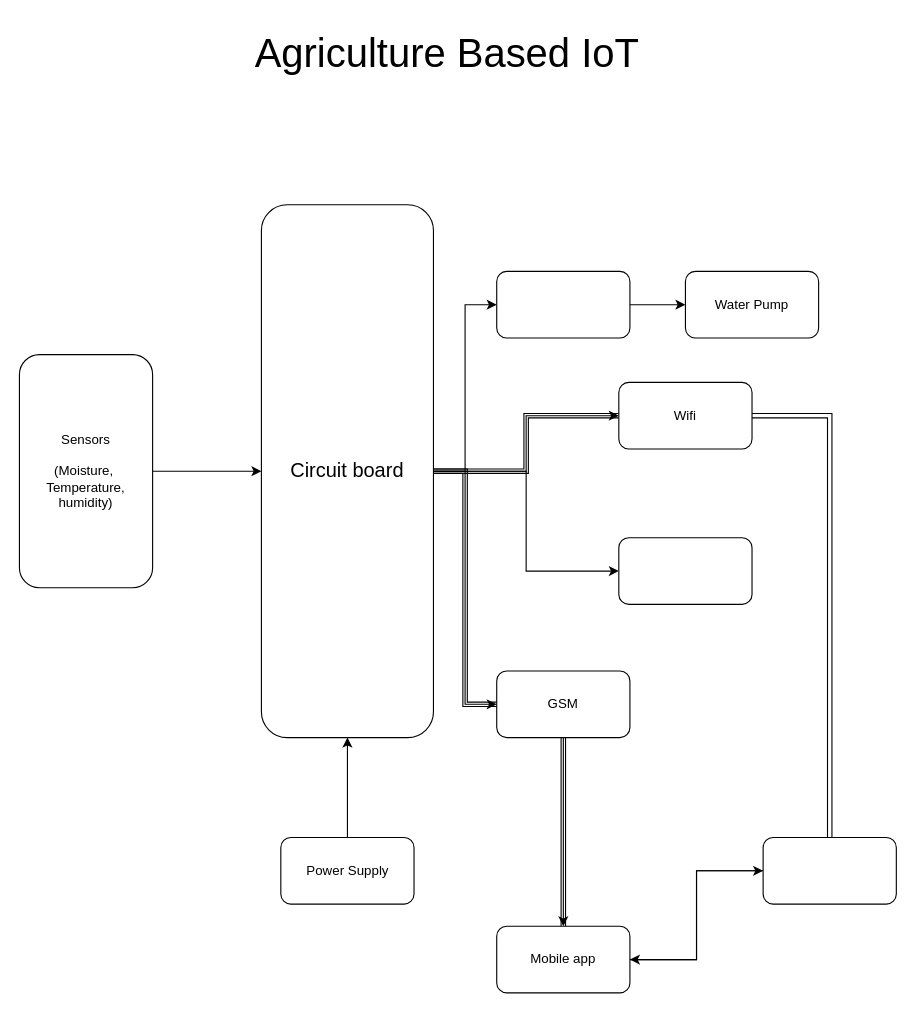
The diagram is 916 pixels wide and 1012 high, and some of its shapes have lost their labels. The shapes that lost their labels are listed below. From the top down, each one's box as (x1, y1, x2, y2) in pixels, then its label:
(496, 270, 630, 338): Relay
(618, 537, 752, 604): Buzzer
(762, 836, 896, 904): Internet and Cloud Storage
